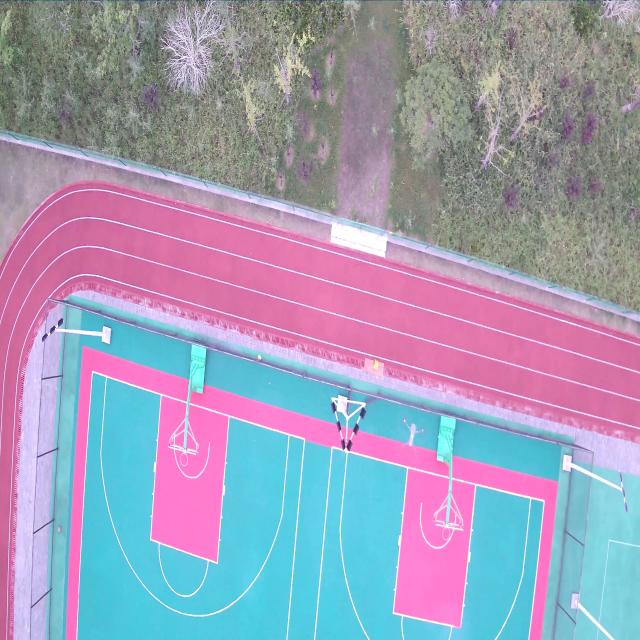UAV: (399, 417, 424, 456)
